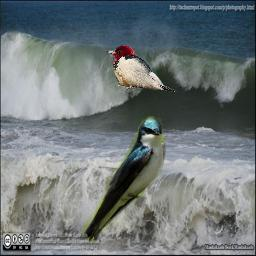Swallow: (81, 116, 167, 246)
Woodpecker: (104, 45, 177, 92)
